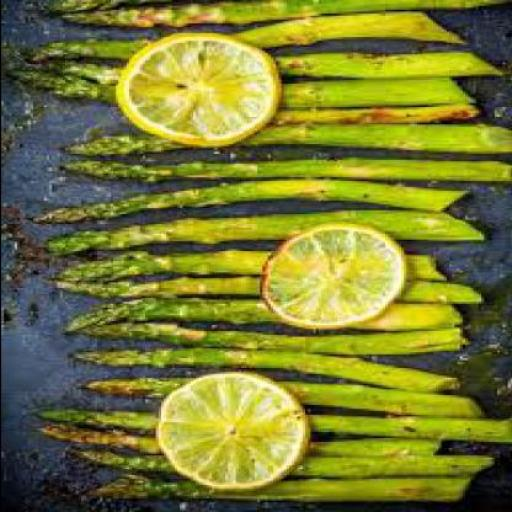biodegradable: (39, 210, 480, 258), (26, 181, 464, 226), (110, 33, 274, 150), (78, 375, 478, 421), (151, 376, 304, 494), (62, 47, 510, 87), (51, 121, 509, 160), (62, 350, 448, 396), (64, 14, 455, 56), (30, 422, 510, 456), (256, 224, 400, 335), (3, 78, 475, 110), (69, 450, 493, 483), (48, 254, 434, 288), (56, 2, 509, 29), (56, 303, 456, 333), (53, 158, 509, 184), (46, 282, 478, 306), (72, 328, 461, 354), (78, 481, 466, 504), (35, 442, 427, 458), (269, 103, 483, 128), (34, 2, 192, 14)
